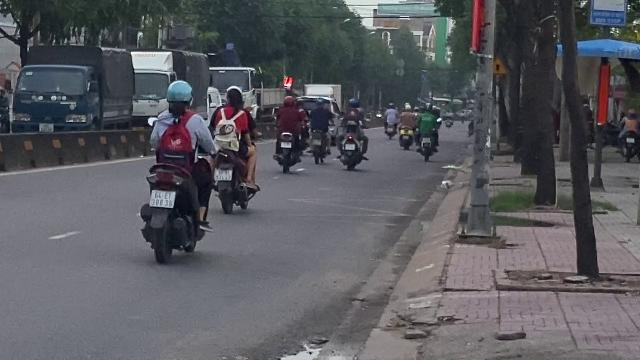helmet: (164, 80, 194, 112)
licenseplate: (150, 190, 174, 208), (215, 168, 233, 180)
motorcyclist: (138, 78, 214, 262), (209, 85, 261, 213)
nohelmet: (225, 87, 243, 108)
